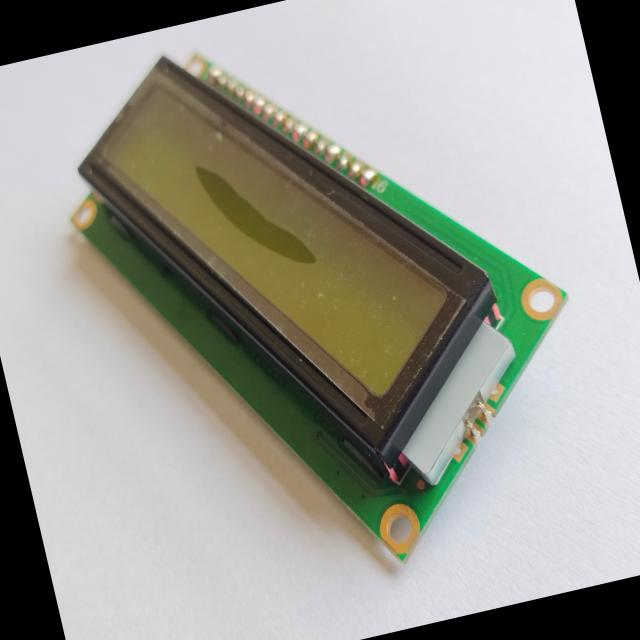lcd: (25, 0, 628, 623)
